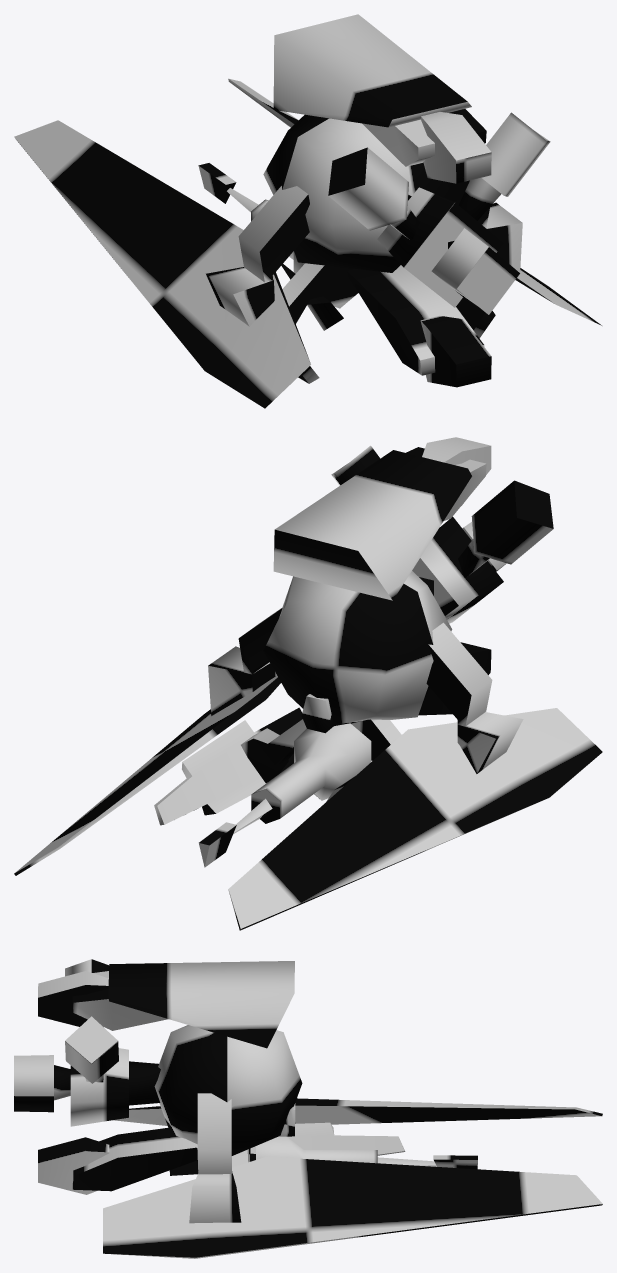
Rendered from pet_4.obj.
3 views of the same model, one above another, from view 1: azimuth 30°, elevation 25°; view 2: azimuth 150°, elevation 25°; view 3: azimuth 270°, elevation 25° (orthographic). The views are drawn at different scales.
Visible parts, largest first — view 1: main; view 2: main; view 3: main.
Part boxes in pixels (left/top/right/bottom): main: left=14, top=14, right=601, bottom=408; main: left=14, top=437, right=602, bottom=930; main: left=14, top=959, right=602, bottom=1258.
Size of the model in its own units: 39.07 by 31.3 by 70.91.
1 material, 1 textured.
